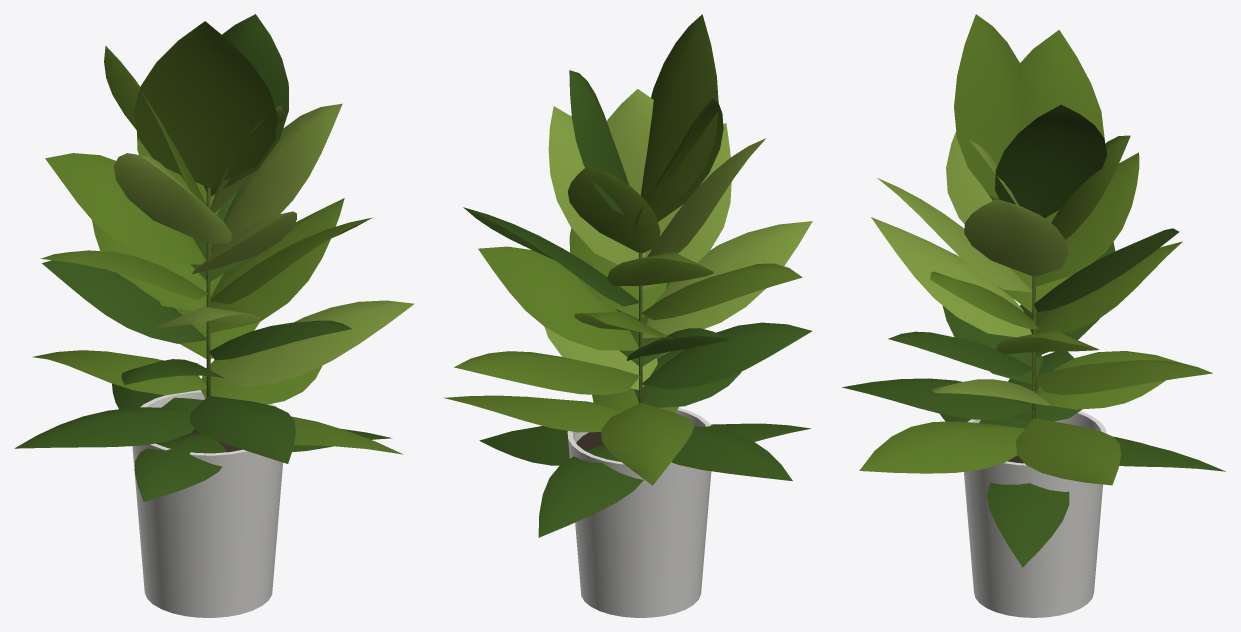
File: greenery.large-floor-plant.glb
3 renders of one model, left to right at view 1: azimuth 30°, elevation 25°; view 2: azimuth 150°, elevation 25°; view 3: azimuth 270°, elevation 25°, orthographic. The views are drawn at different scales.
Visible parts, largest first — view 1: greenery.large-floor-plant.001; view 2: greenery.large-floor-plant.001; view 3: greenery.large-floor-plant.001.
Boxes of the visible parts, box(x1,y1,x2,y2) form: greenery.large-floor-plant.001: box(14, 14, 414, 617); greenery.large-floor-plant.001: box(444, 14, 812, 617); greenery.large-floor-plant.001: box(842, 14, 1225, 617).
Bounding box in the file's own units: 0.9 × 1.45 × 0.9.
